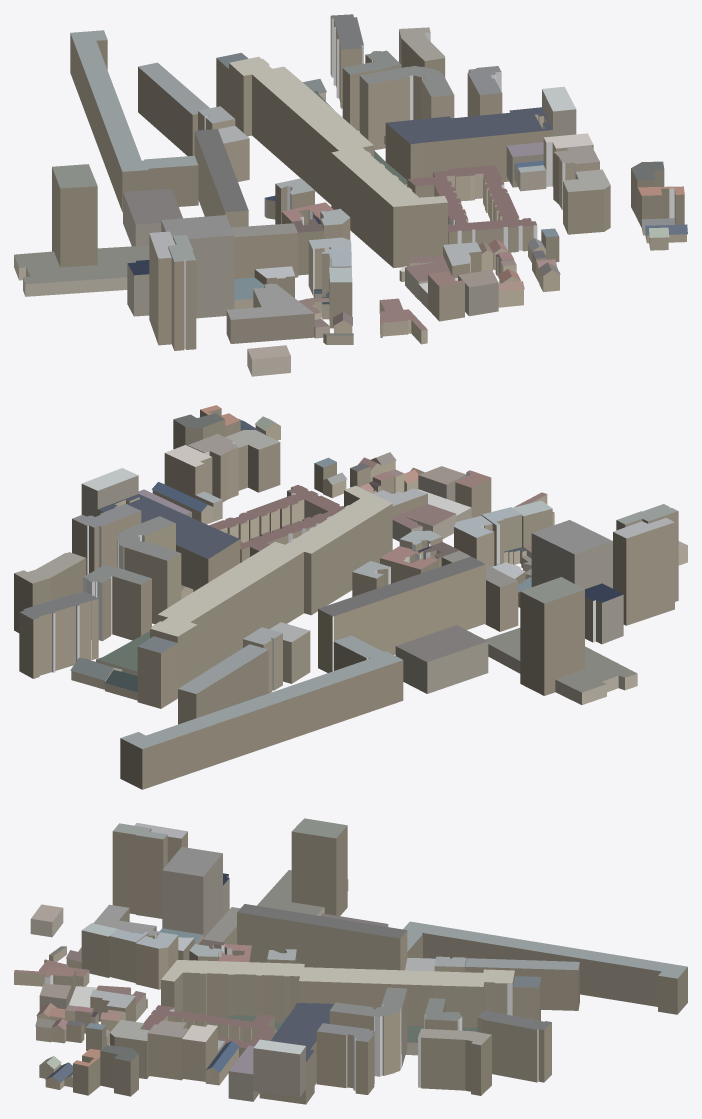
3 views of the same model, one above another, from view 1: azimuth 30°, elevation 25°; view 2: azimuth 150°, elevation 25°; view 3: azimuth 270°, elevation 25° (orthographic). The views are drawn at different scales.
Parts seen in each view (by area): view 1: tuile; view 2: tuile; view 3: tuile.
Boxes of the visible parts, x1=… form: tuile: x1=14, y1=14, x2=687, y2=376; tuile: x1=14, y1=405, x2=687, y2=789; tuile: x1=14, y1=818, x2=687, y2=1104.
Size of the model in its own units: 283 by 47.58 by 337.
